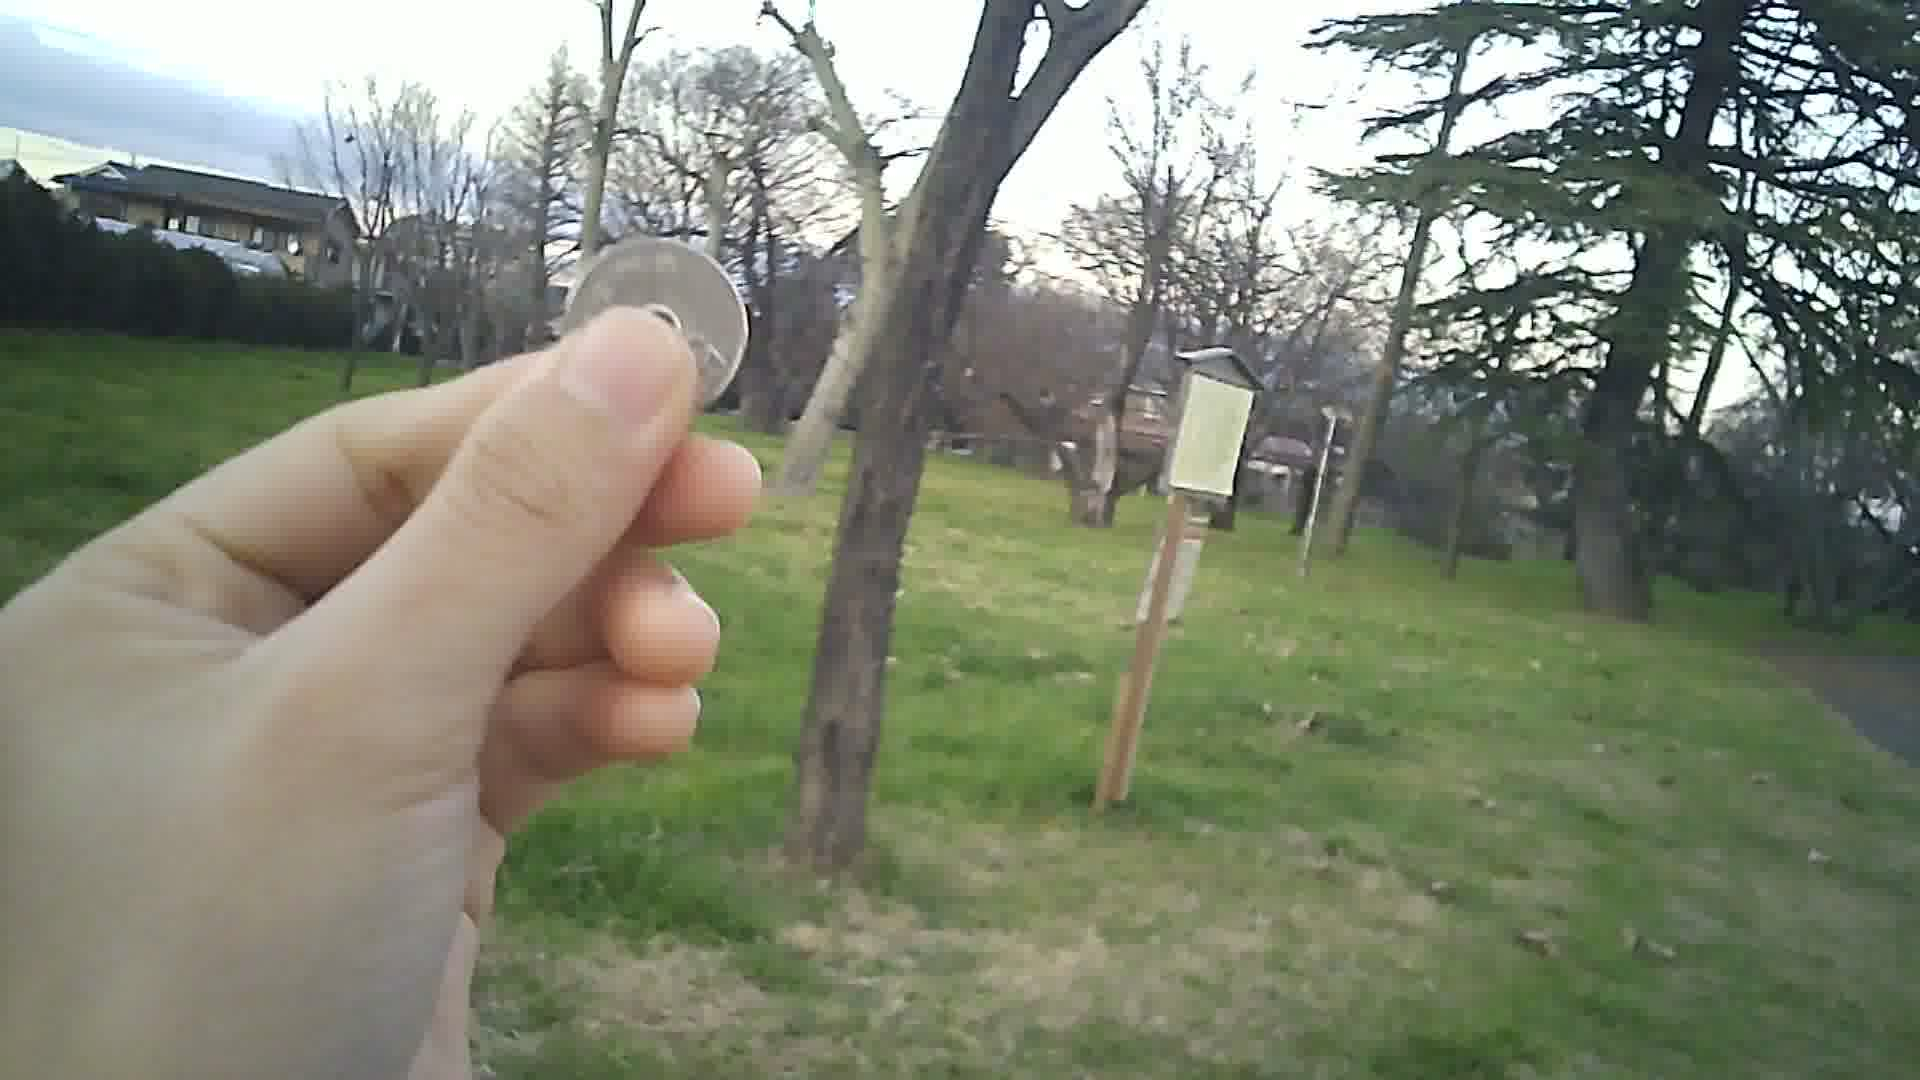50 Yen: (553, 231, 757, 423)
